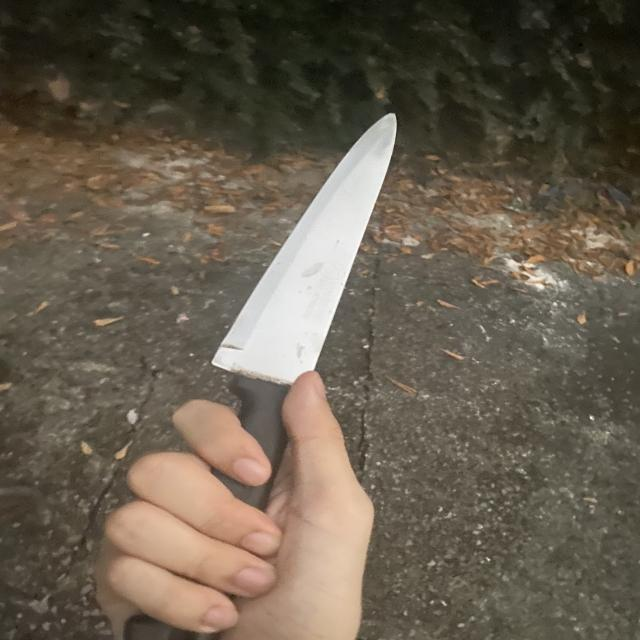faca: (60, 85, 462, 640)
